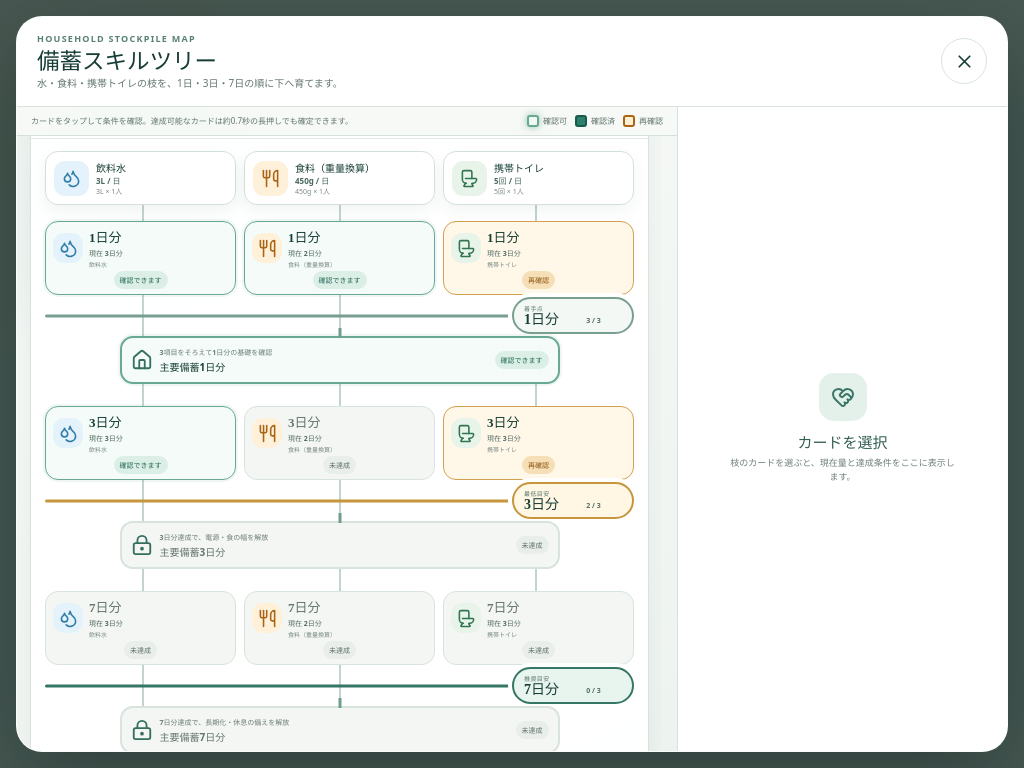
Test: StockpileSkillTree › 選択中のカードを再タップ、または詳細の閉じるボタンで詳細を閉じられる
(page scrolled)
Click the button with aria-label "飲料水3日分、現在3日分、確認できます". click: x=140, y=443
box: [45,406,236,480]
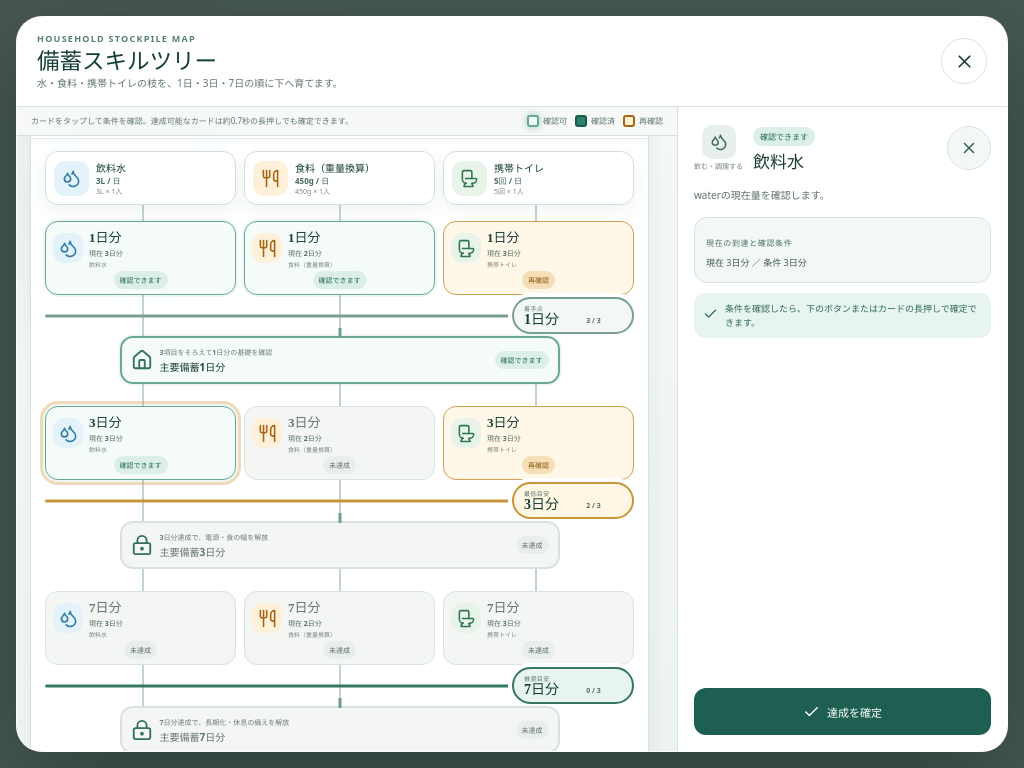
Check: the button named "カードの詳細を閉じる" is shown, box [947,126,991,170]
Click the button with aria-label "飲料水3日分、現在3日分、確認できます". click: x=140, y=443
box: [45,406,236,480]
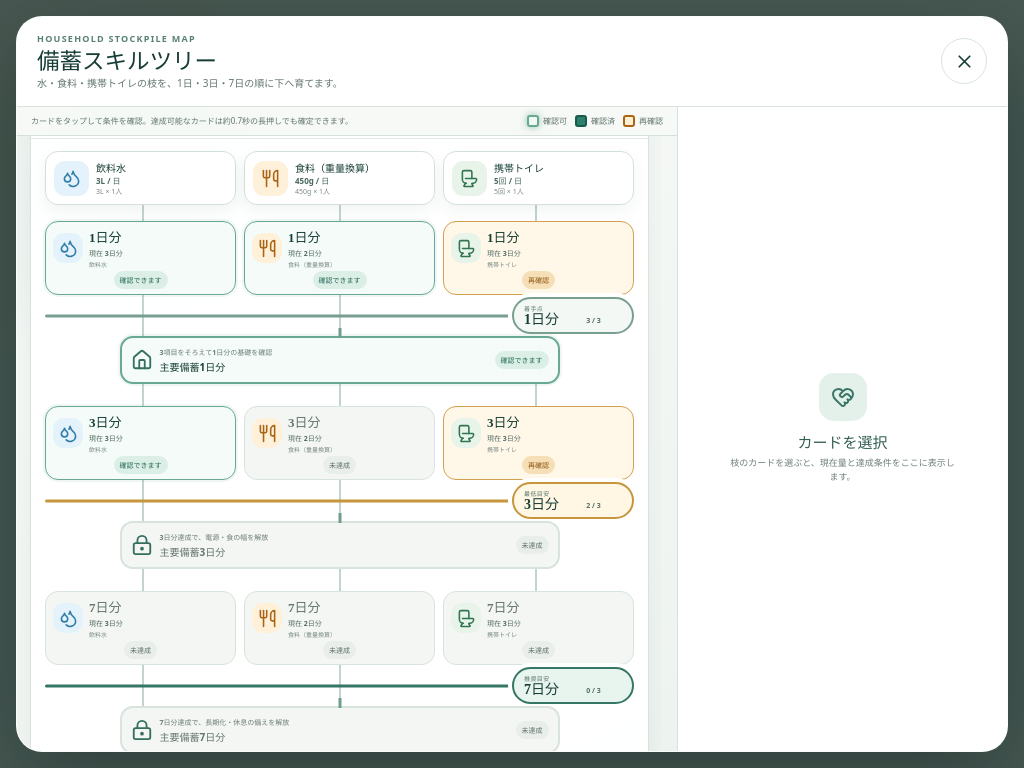
Check: the button "カードの詳細を閉じる" is gone
Click the button with aria-label "飲料水3日分、現在3日分、確認できます". click: x=140, y=443
box: [45,406,236,480]
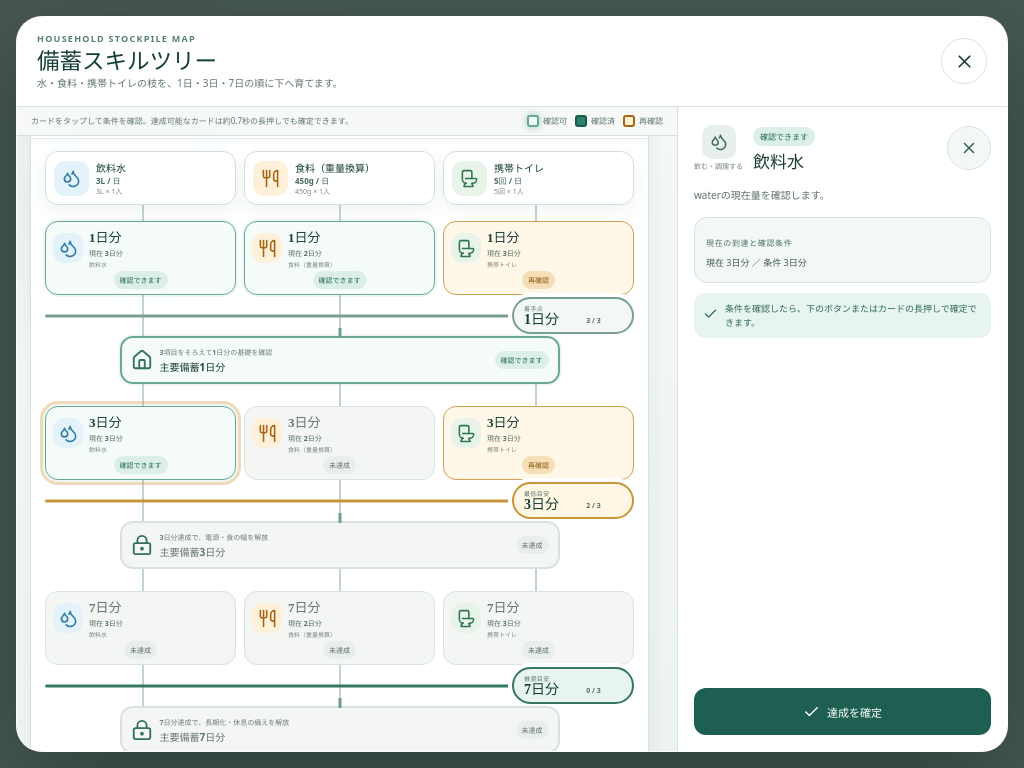
Click the button named "カードの詳細を閉じる". click: x=969, y=148
box: [947,126,991,170]
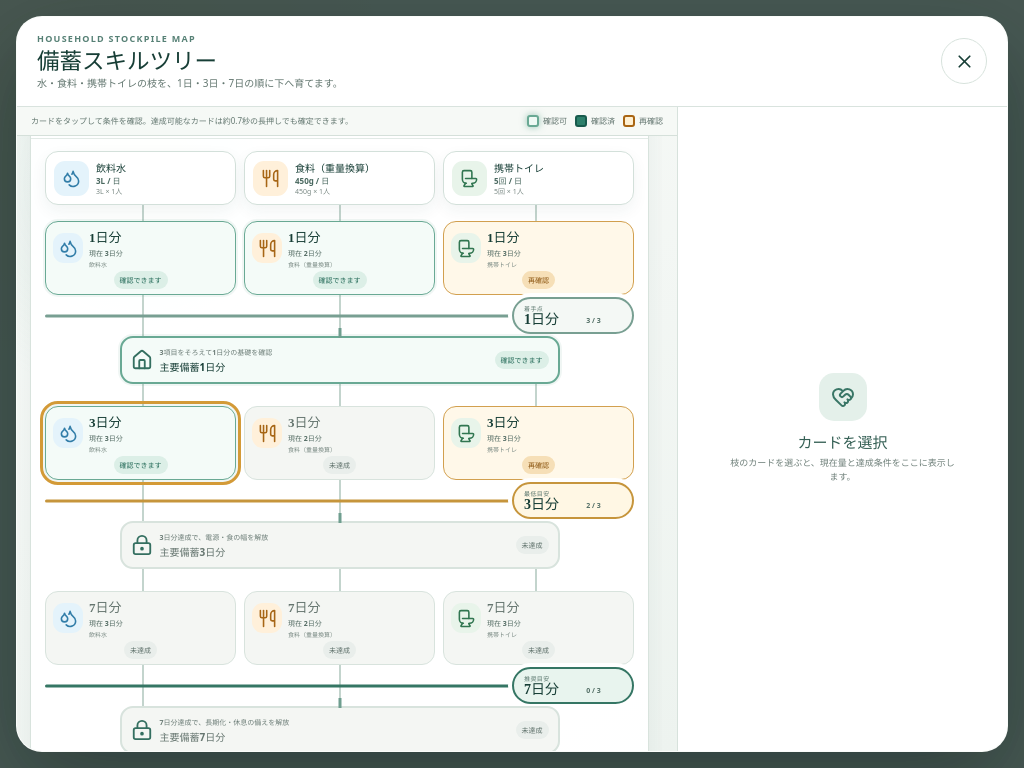
Check: the button "カードの詳細を閉じる" is gone
